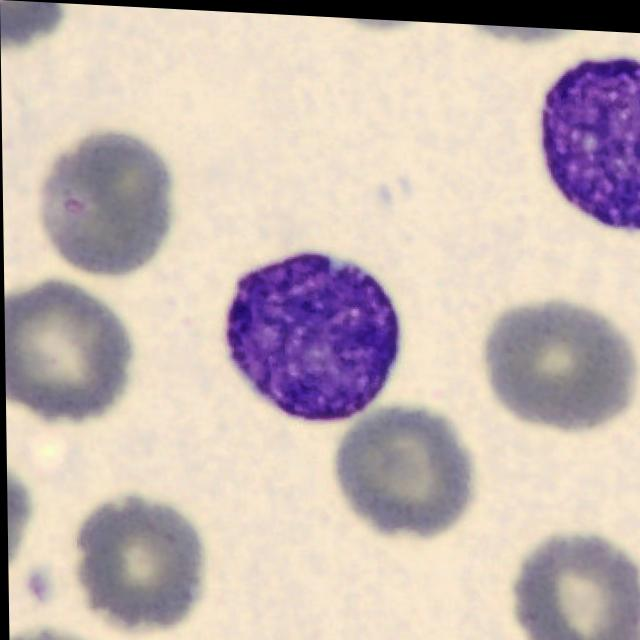Linfocito: (224, 246, 400, 418), (543, 49, 640, 222)
